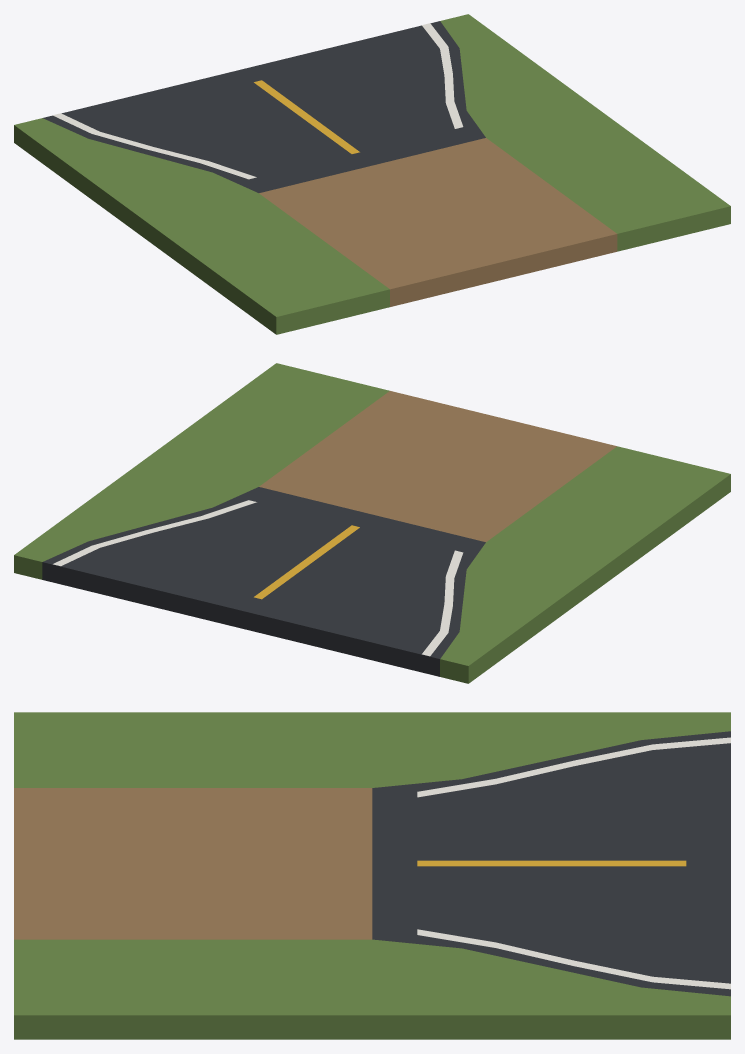
The model's file is Transition_Paved_To_Dirt_8m.glb.
3 views of the same model, one above another, from view 1: azimuth 30°, elevation 25°; view 2: azimuth 150°, elevation 25°; view 3: azimuth 270°, elevation 25° (orthographic). The views are drawn at different scales.
Parts seen in each view (by area): view 1: Transition_Paved_To_Dirt_8m_Grass-edge, Transition_Paved_To_Dirt_8m_Asphalt, Transition_Paved_To_Dirt_8m_Dirt, Transition_Paved_To_Dirt_8m_PaintWhite, Transition_Paved_To_Dirt_8m_PaintYellow; view 2: Transition_Paved_To_Dirt_8m_Grass-edge, Transition_Paved_To_Dirt_8m_Asphalt, Transition_Paved_To_Dirt_8m_Dirt, Transition_Paved_To_Dirt_8m_PaintWhite, Transition_Paved_To_Dirt_8m_PaintYellow; view 3: Transition_Paved_To_Dirt_8m_Grass-edge, Transition_Paved_To_Dirt_8m_Asphalt, Transition_Paved_To_Dirt_8m_Dirt, Transition_Paved_To_Dirt_8m_PaintWhite, Transition_Paved_To_Dirt_8m_PaintYellow.
Boxes of the visible parts, x1=… form: Transition_Paved_To_Dirt_8m_Grass-edge: x1=14, y1=14, x2=730, y2=334; Transition_Paved_To_Dirt_8m_Asphalt: x1=43, y1=21, x2=485, y2=192; Transition_Paved_To_Dirt_8m_Dirt: x1=259, y1=138, x2=617, y2=306; Transition_Paved_To_Dirt_8m_PaintWhite: x1=53, y1=23, x2=463, y2=179; Transition_Paved_To_Dirt_8m_PaintYellow: x1=254, y1=80, x2=359, y2=153; Transition_Paved_To_Dirt_8m_Grass-edge: x1=14, y1=363, x2=730, y2=683; Transition_Paved_To_Dirt_8m_Asphalt: x1=42, y1=487, x2=485, y2=676; Transition_Paved_To_Dirt_8m_Dirt: x1=259, y1=391, x2=616, y2=541; Transition_Paved_To_Dirt_8m_PaintWhite: x1=53, y1=500, x2=463, y2=656; Transition_Paved_To_Dirt_8m_PaintYellow: x1=254, y1=525, x2=359, y2=599; Transition_Paved_To_Dirt_8m_Grass-edge: x1=14, y1=712, x2=730, y2=1039; Transition_Paved_To_Dirt_8m_Asphalt: x1=372, y1=731, x2=730, y2=996; Transition_Paved_To_Dirt_8m_Dirt: x1=14, y1=788, x2=372, y2=939; Transition_Paved_To_Dirt_8m_PaintWhite: x1=417, y1=737, x2=730, y2=989; Transition_Paved_To_Dirt_8m_PaintYellow: x1=417, y1=860, x2=686, y2=866.
Bounding box in the file's own units: 8 × 0.305 × 8.
